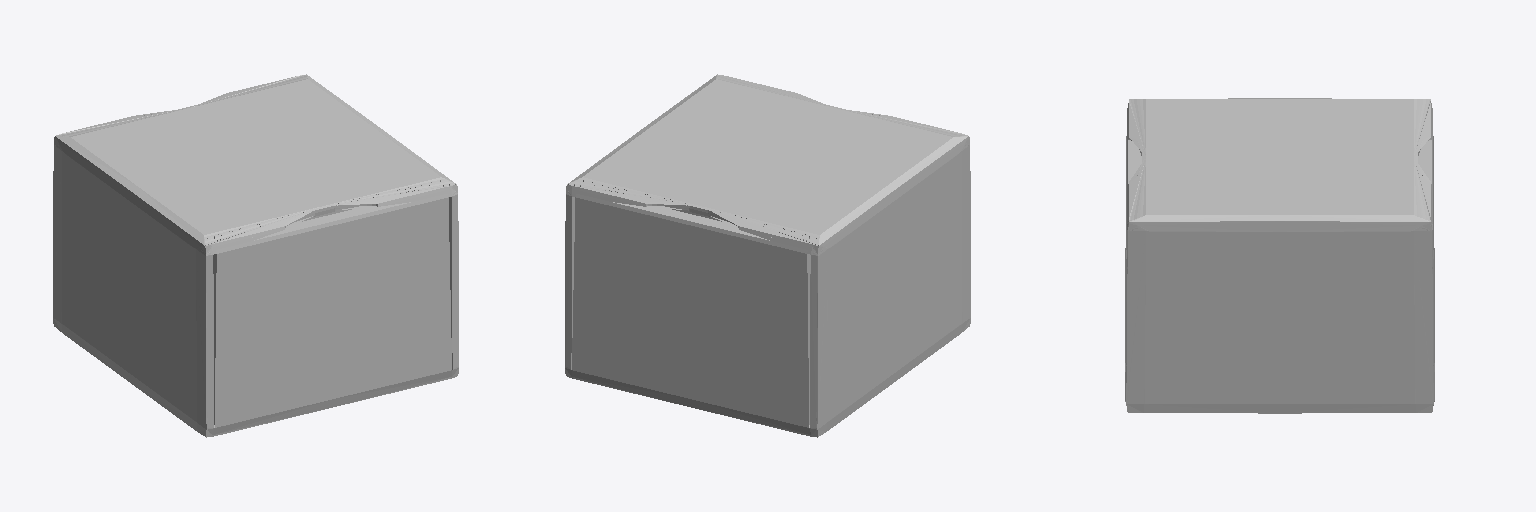
The model's file is shotgun-ammo-pack.obj.
3 views of the same model, side by side, from view 1: azimuth 30°, elevation 25°; view 2: azimuth 150°, elevation 25°; view 3: azimuth 270°, elevation 25° (orthographic).
Parts seen in each view (by area): view 1: основа_пачки.001_Куб.020; view 2: основа_пачки.001_Куб.020; view 3: основа_пачки.001_Куб.020.
Part boxes in pixels (bbox=[...]): основа_пачки.001_Куб.020: bbox=[53, 74, 458, 437]; основа_пачки.001_Куб.020: bbox=[565, 74, 970, 437]; основа_пачки.001_Куб.020: bbox=[1125, 98, 1434, 413].
Bounding box in the file's own units: 0.3022 × 0.2253 × 0.3196.